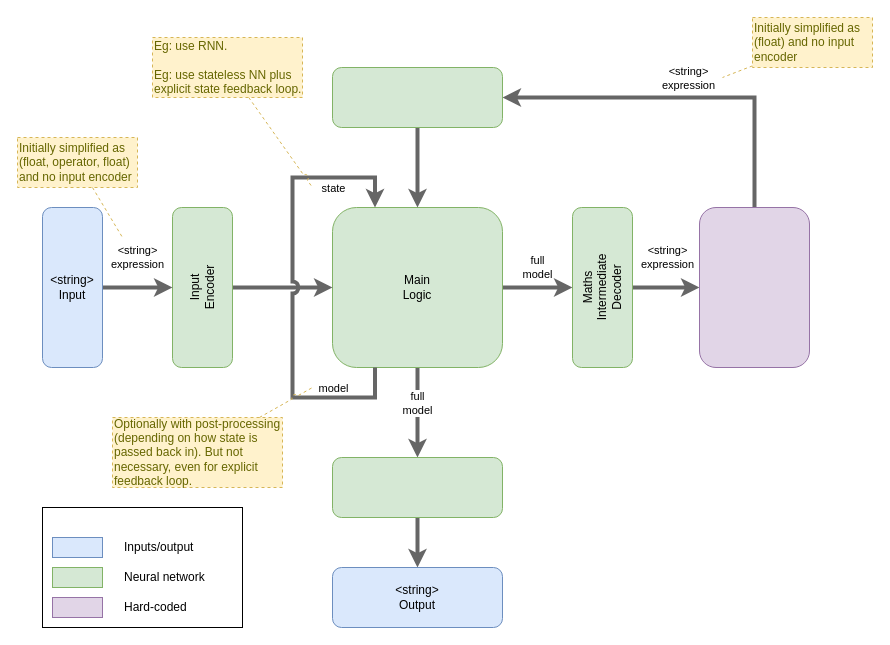
The diagram is 890 pixels wide and 645 high, and some of its shapes have lost their labels. The shapes that lost their labels are listed below. From the top down, each one's box as (x1, y1, x2, y2) in pixels, then its label:
(332, 66, 502, 128): Maths Input Encoder
(698, 206, 810, 368): Maths Solver
(332, 456, 502, 518): Output Decoder
(42, 506, 242, 628): Key:
